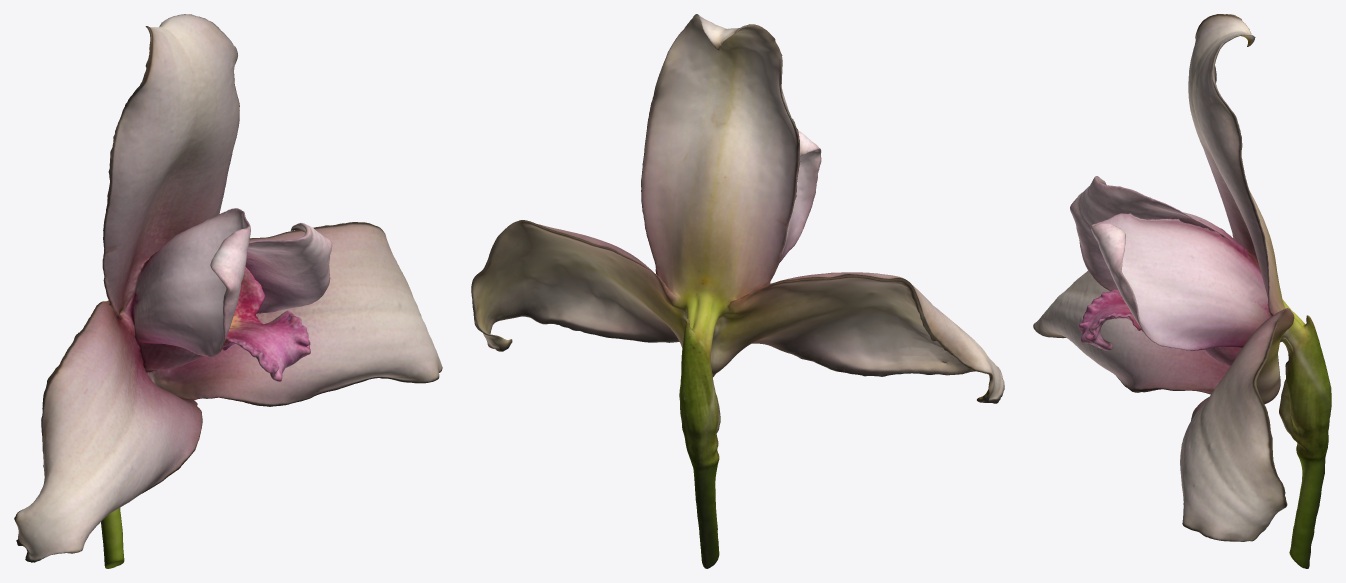
3 renders of one model, left to right at view 1: azimuth 30°, elevation 25°; view 2: azimuth 150°, elevation 25°; view 3: azimuth 270°, elevation 25°, orthographic. The views are drawn at different scales.
Bounding box in the file's own units: 0.1115 × 0.1242 × 0.0608.
Materials: 1 (1 with a texture image).
